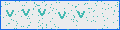v: (57, 10, 67, 21), (37, 8, 47, 17), (5, 9, 14, 18), (21, 8, 30, 17), (76, 10, 85, 19)
